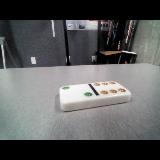domino: (60, 81, 130, 111)
